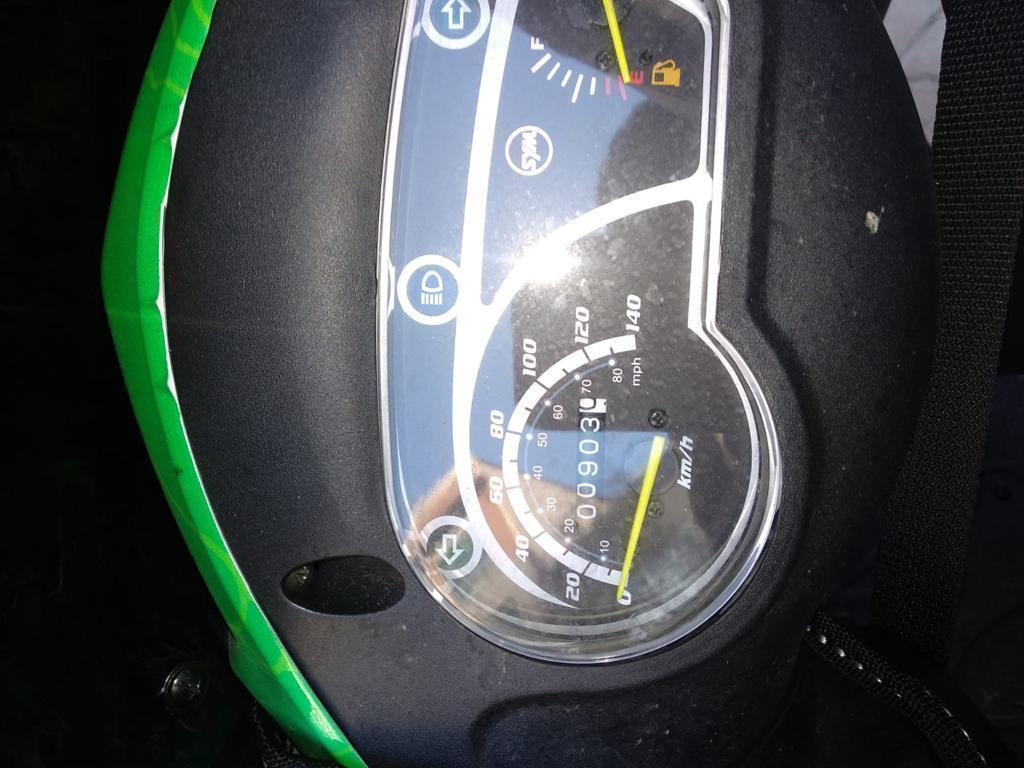0: (574, 437, 601, 456), (574, 481, 596, 499), (576, 395, 598, 412), (574, 504, 596, 520)
3: (577, 415, 602, 433)
9: (574, 458, 600, 477)
odometer: (570, 393, 609, 532)
